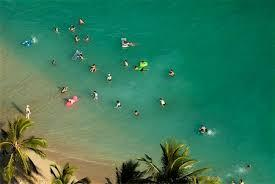Person: (65, 95, 80, 108), (158, 97, 169, 111), (120, 39, 136, 48), (199, 125, 210, 135), (59, 84, 69, 95), (114, 99, 123, 110), (91, 89, 99, 100), (89, 63, 98, 72), (73, 33, 81, 43), (26, 104, 30, 120), (133, 109, 141, 117), (106, 73, 112, 83), (168, 70, 175, 77), (70, 25, 77, 32), (122, 60, 130, 66), (50, 58, 56, 65), (85, 35, 90, 42), (239, 178, 244, 184), (247, 163, 251, 169), (54, 28, 59, 32)
